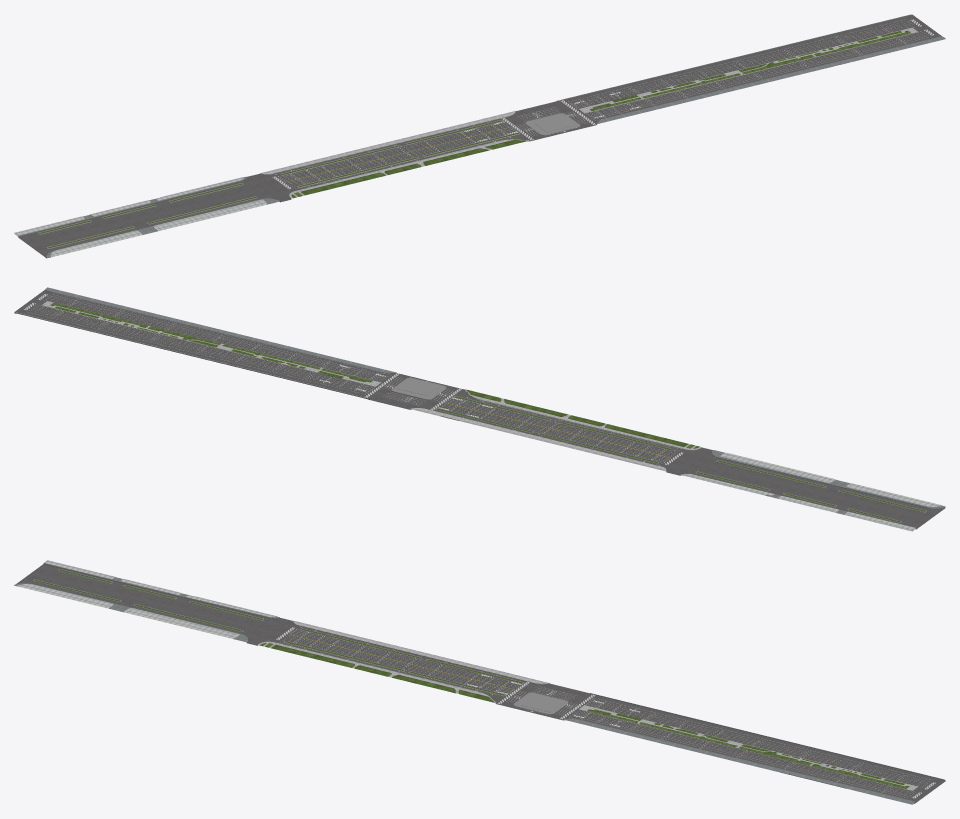
Rendered from jtsj_T_01.obj.
The picture shows the model from 3 angles, top to bottom: view 1: azimuth 30°, elevation 25°; view 2: azimuth 150°, elevation 25°; view 3: azimuth 330°, elevation 25°; orthographic projection.
Parts seen in each view (by area): view 1: Line012; view 2: Line012; view 3: Line012.
Boxes of the visible parts, <box> form: Line012: <box>14,14,945,258</box>; Line012: <box>14,287,945,531</box>; Line012: <box>14,560,945,804</box>.
Size of the model in its own units: 1114 by 2 by 72.21.
